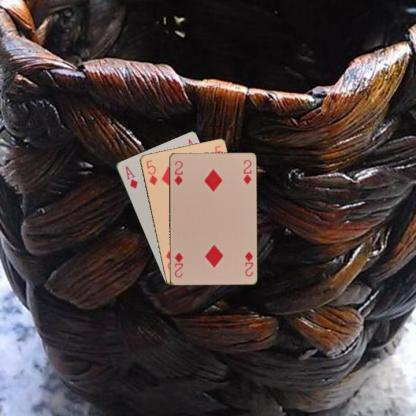2d: (242, 248, 254, 278), (172, 158, 184, 187)
5d: (144, 157, 158, 186)
Ad: (122, 163, 138, 190)
